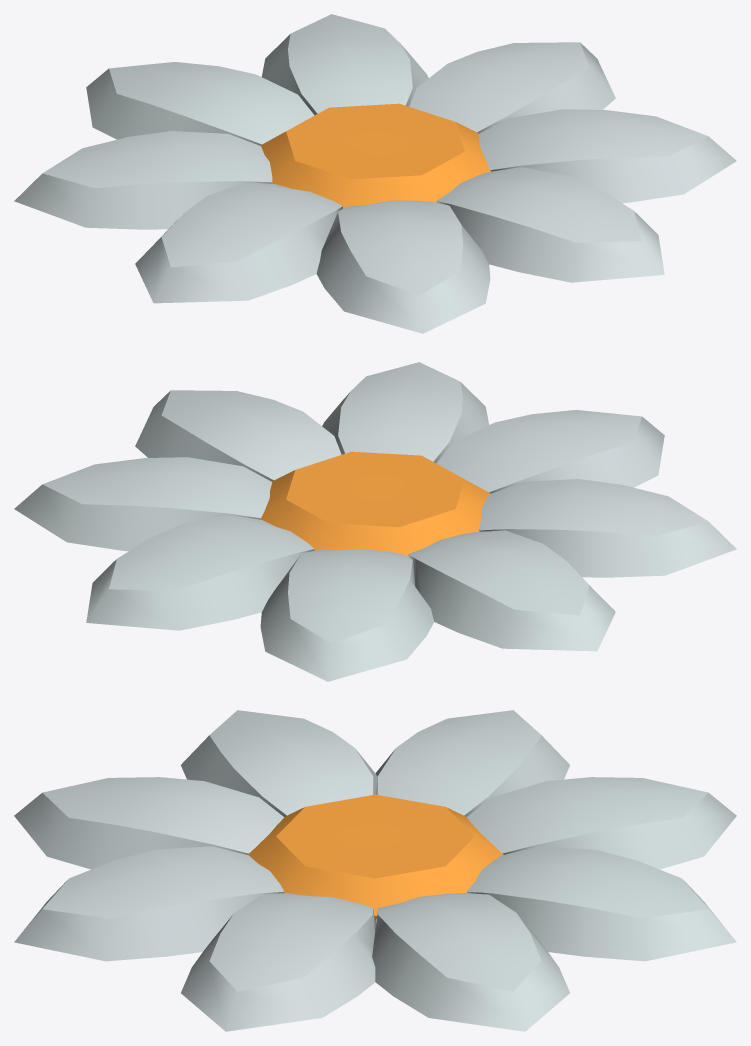
The model's file is Flower_1_1.glb.
3 renders of one model, top to bottom at view 1: azimuth 30°, elevation 25°; view 2: azimuth 150°, elevation 25°; view 3: azimuth 270°, elevation 25°, orthographic. The views are drawn at different scales.
Visible parts, largest first — view 1: Flower_1_1; view 2: Flower_1_1; view 3: Flower_1_1.
Boxes of the visible parts, bbox=[...] form: Flower_1_1: bbox=[14, 14, 736, 333]; Flower_1_1: bbox=[14, 362, 736, 681]; Flower_1_1: bbox=[14, 710, 736, 1031].
Size of the model in its own units: 0.3582 by 0.0258 by 0.3582.
2 materials, 2 textured.
